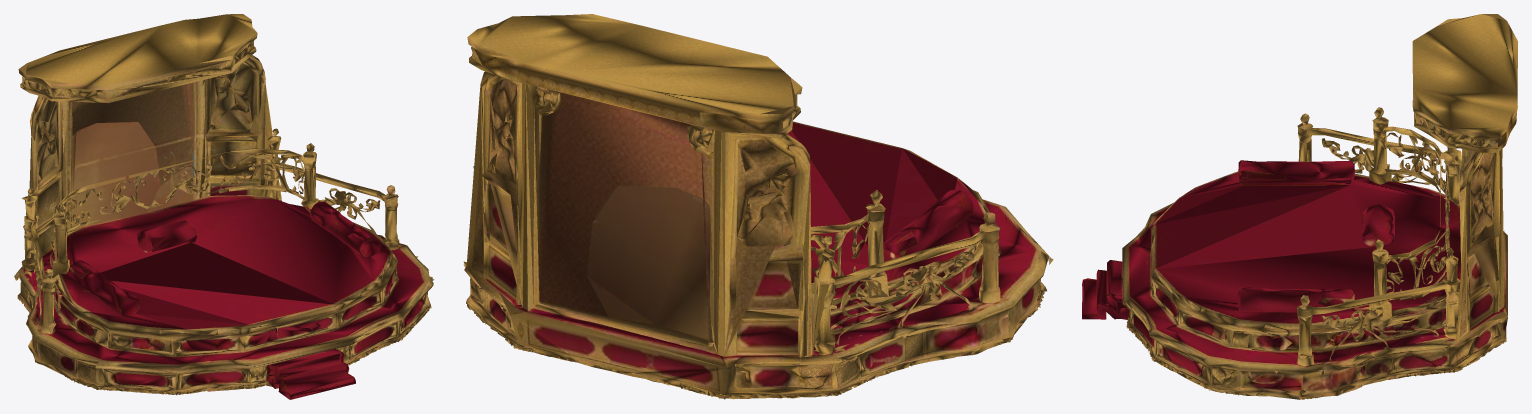
The model's file is throne_dais.glb.
The picture shows the model from 3 angles, left to right: view 1: azimuth 30°, elevation 25°; view 2: azimuth 150°, elevation 25°; view 3: azimuth 270°, elevation 25°; orthographic projection. The views are drawn at different scales.
Visible parts, largest first — view 1: throne_dais; view 2: throne_dais; view 3: throne_dais.
Part boxes in pixels (x1,y1,x2,y2): throne_dais: [14, 14, 434, 399]; throne_dais: [463, 14, 1053, 399]; throne_dais: [1082, 14, 1517, 399].
Bounding box in the file's own units: 2.6 × 1.4 × 2.42.
1 material, 1 textured.
